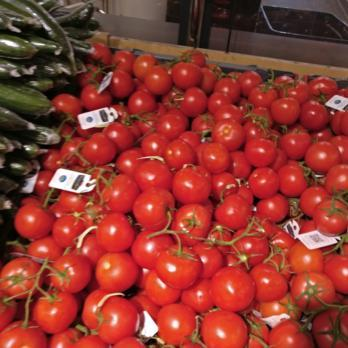Tomato: (90, 47, 348, 348), (2, 182, 96, 348)
